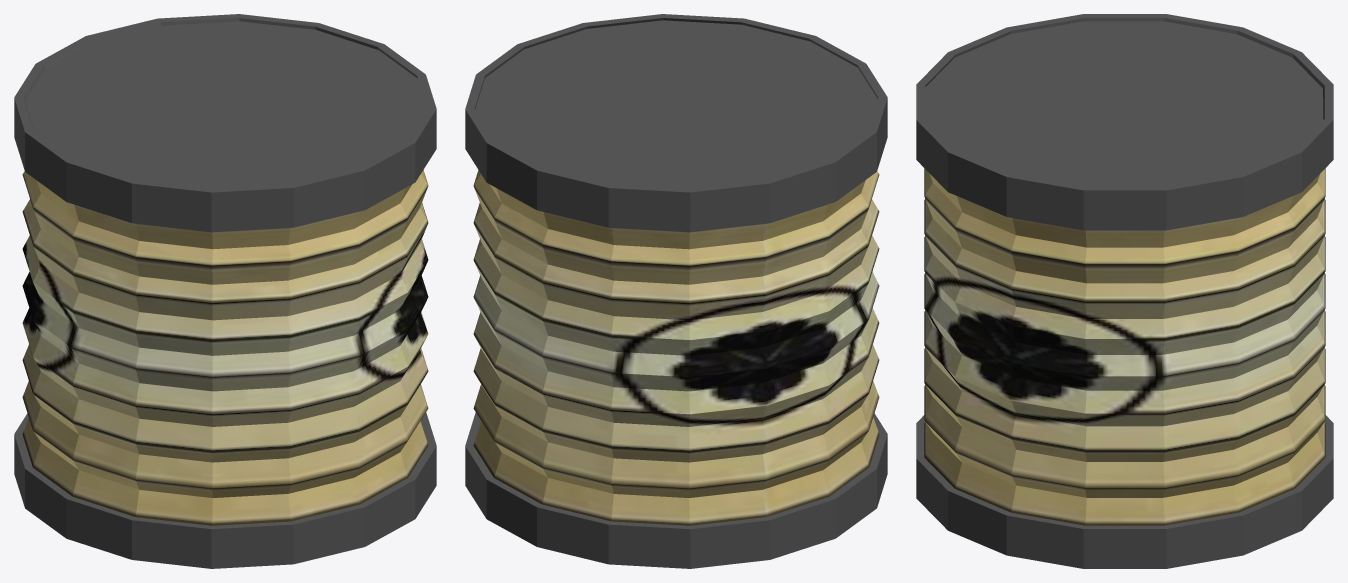
The model's file is sh-bs0-japanese-lantern.glb.
3 renders of one model, left to right at view 1: azimuth 30°, elevation 25°; view 2: azimuth 150°, elevation 25°; view 3: azimuth 270°, elevation 25°, orthographic.
Parts seen in each view (by area): view 1: Japanese_Lantern_01_Japanese_Lantern; view 2: Japanese_Lantern_01_Japanese_Lantern; view 3: Japanese_Lantern_01_Japanese_Lantern.
Boxes of the visible parts, box(x1,y1,x2,y2) form: Japanese_Lantern_01_Japanese_Lantern: box(14, 14, 436, 568); Japanese_Lantern_01_Japanese_Lantern: box(465, 14, 887, 568); Japanese_Lantern_01_Japanese_Lantern: box(916, 14, 1333, 568).
Size of the model in its own units: 1 by 1 by 1.
2 materials, 1 textured.
